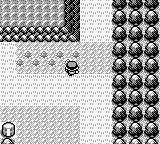main: (65, 61, 79, 75)
no-caminable: (112, 0, 160, 144), (0, 0, 80, 42), (0, 122, 16, 138), (0, 139, 15, 143)
